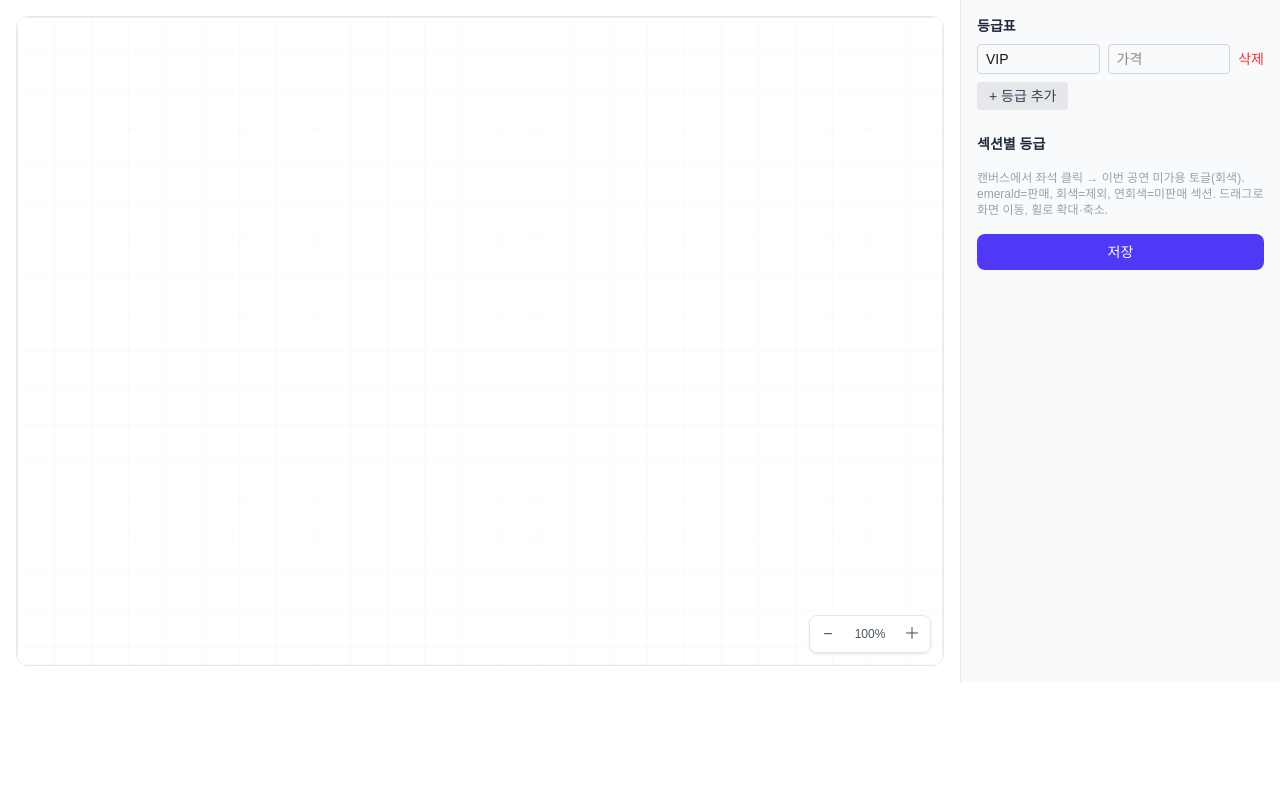
Test: 가격을 숫자로 입력하면 3자리 콤마로 표시된다
Type "30000" into the field with placeholder "가격".
click(1169, 59); type("30000")  # box left=1108, top=44, right=1230, bottom=74
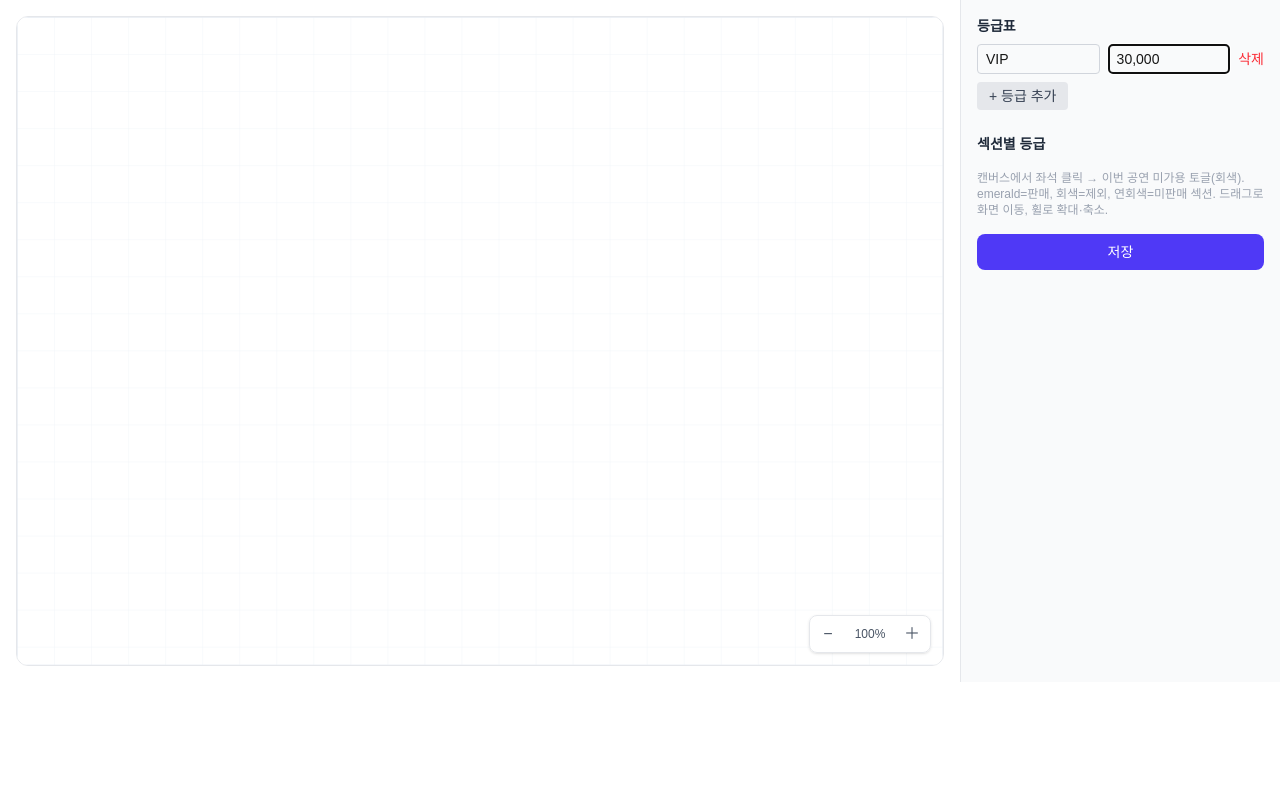
Expected: the 2nd field with placeholder "가격" holds "30,000", left=1108, top=44, right=1230, bottom=74
